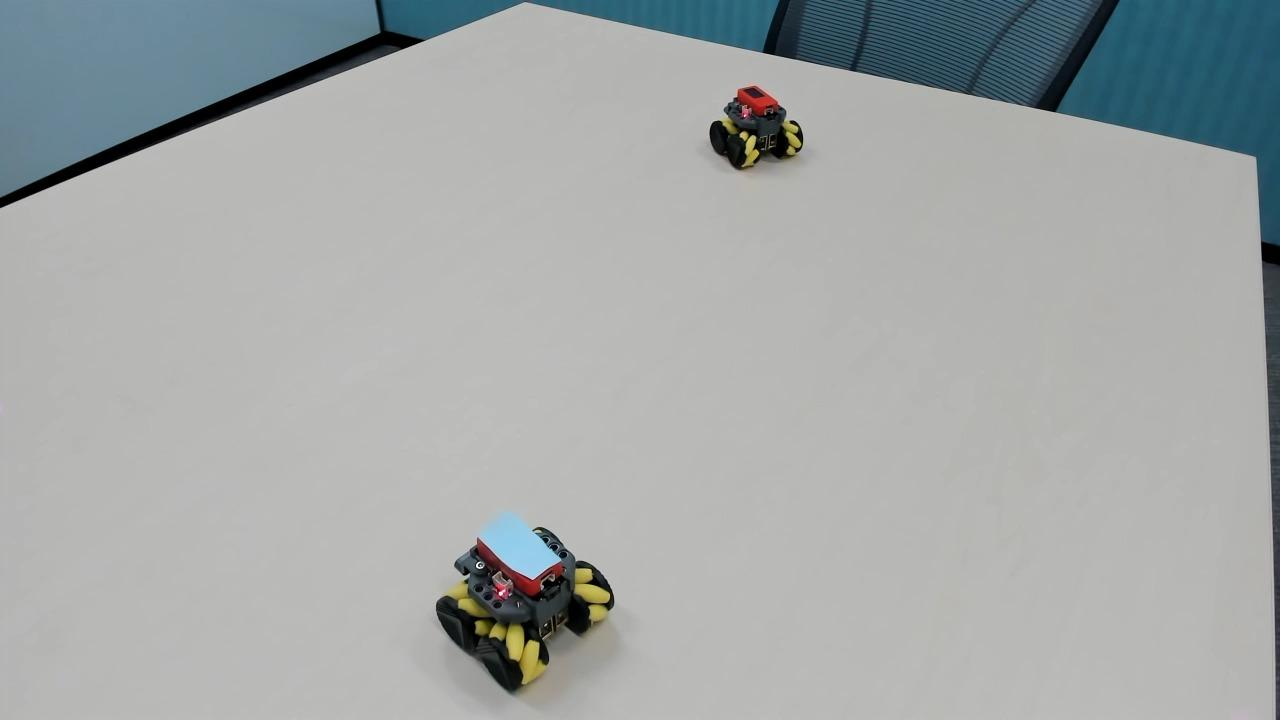B-Robot: (432, 508, 620, 699)
R-Robot: (695, 70, 806, 179)
